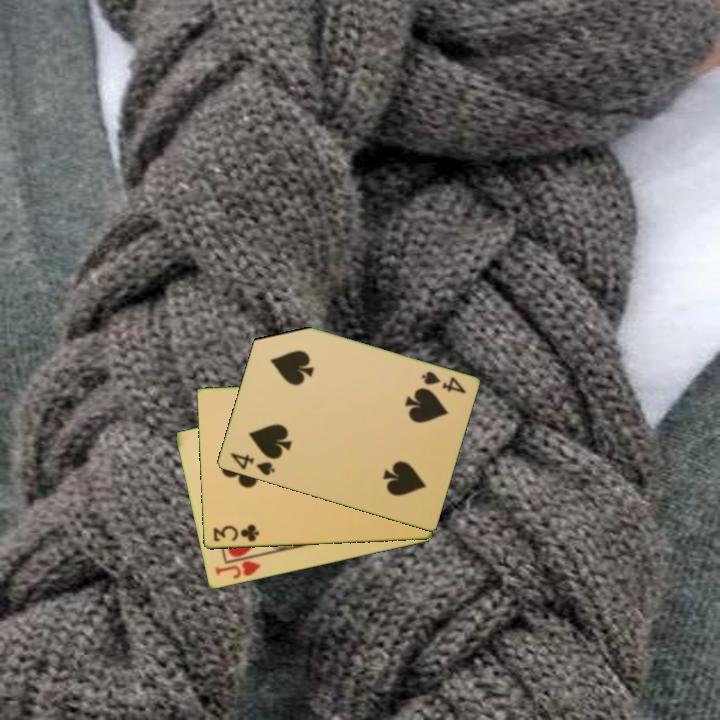3c: (209, 521, 261, 545)
4s: (226, 449, 277, 479), (417, 368, 469, 397)
Jh: (211, 557, 263, 582)
